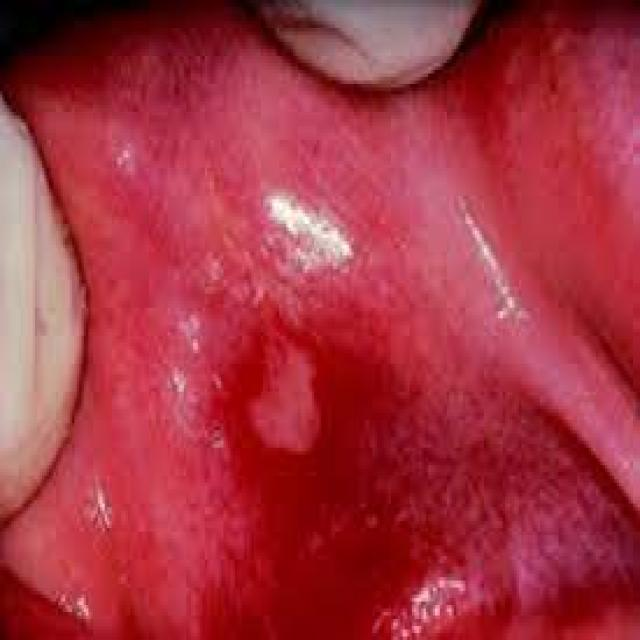processing_area: (4, 4, 636, 637)
ulcer-detection: (221, 309, 420, 571)
